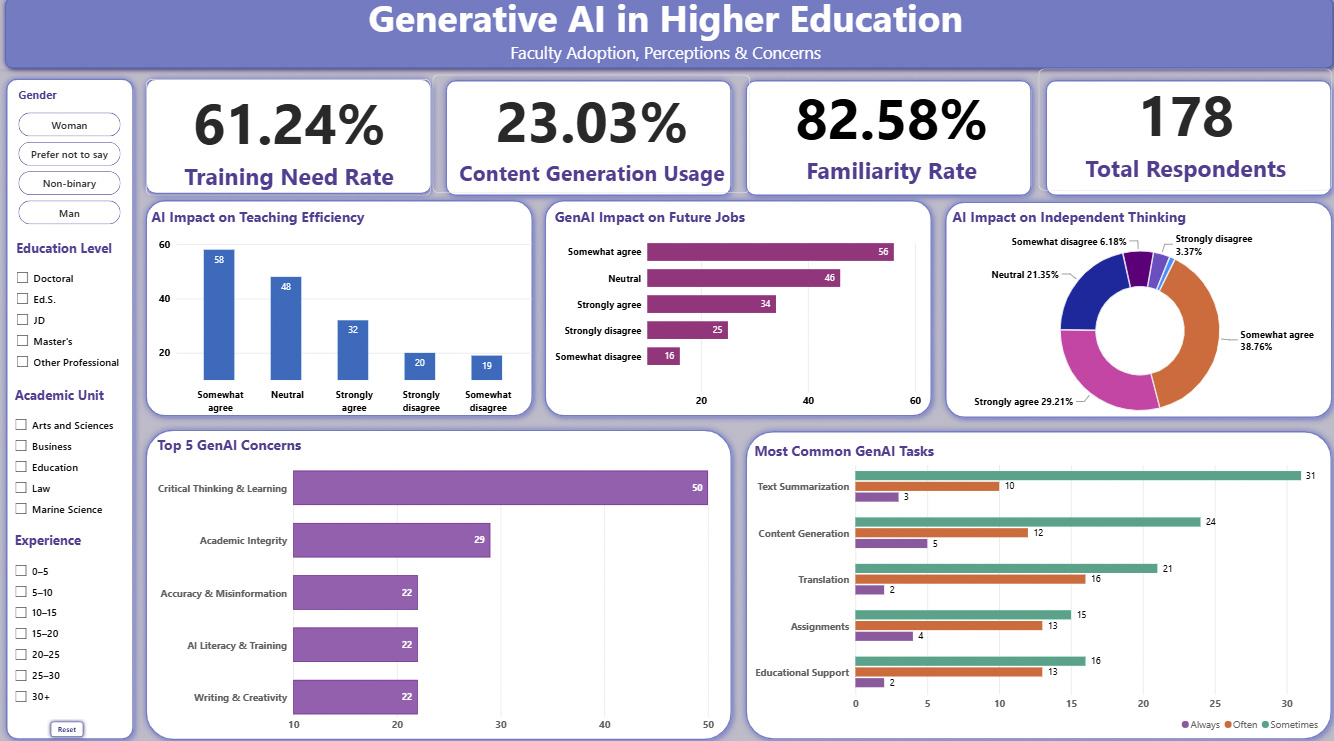

This screenshot's page, from the dashboard's own definition file:
{"tool":"powerbi","page":{"name":"Page 1","canvas":[1920,1080],"ordinal":0},"visuals":[{"type":"shape","box":[1490,115.7,430,186.1],"z":0},{"type":"shape","box":[0,0,1920,118],"z":1000},{"type":"shape","box":[0,114.3,202.9,967.1],"z":2000},{"type":"shape","box":[630,115.7,430,186.1],"z":3000},{"type":"shape","box":[200,114.3,430,185.7],"z":4000},{"type":"shape","box":[1060,115.7,430,186.1],"z":5000},{"type":"shape","box":[772.1,288.6,575,330],"z":6000},{"type":"shape","box":[200,288.6,575,330],"z":7000},{"type":"shape","box":[1344.3,290,575,330],"z":8000},{"type":"shape","box":[200,615.7,860,465],"z":9000},{"type":"shape","box":[1060,618.6,860,462],"z":10000},{"type":"cardVisual","fields":{"Data":["Measures_.Familiarity Rate"]},"box":[1062.5,117.5,430,167],"z":11000},{"type":"cardVisual","fields":{"Data":["Measures_.Total Respondents"]},"box":[1490,110,420,175],"z":12000},{"type":"cardVisual","fields":{"Data":["Measures_.Training Need Rate"]},"box":[211.4,124.3,408.6,167.1],"z":13000},{"type":"listSlicer","fields":{"Values":["Survay.education_level - short"]},"box":[8.6,339.5,202.5,227.2],"z":14000},{"type":"advancedSlicerVisual","fields":{"Values":["Survay.instructor_gender"]},"box":[27.2,135.8,146.9,197.5],"z":15000},{"type":"donutChart","title":"AI Impact on Independent Thinking","fields":{"Category":["Survay.genai_independent_thinking_reduction"],"Y":["Measures_.Total Respondents"]},"box":[1348.6,294.3,570,357.1],"z":16000},{"type":"listSlicer","fields":{"Values":["Survay.academic_unit"]},"box":[6.2,550.6,191.4,259.3],"z":17000},{"type":"clusteredBarChart","title":"GenAI Impact on Future Jobs","fields":{"Category":["Survay.genai_future_job_impact"],"Y":["Measures_.Total Respondents"]},"box":[780,294.3,557.1,321.4],"z":18000},{"type":"clusteredColumnChart","title":"AI Impact on Teaching Efficiency","fields":{"Category":["Survay.genai_instructor_efficiency"],"Y":["Measures_.Total Respondents"]},"box":[202.9,294.3,577.1,327.1],"z":19000},{"type":"clusteredBarChart","title":"Most Common GenAI Tasks","fields":{"Category":["GenAI_Tasks.Task"],"Series":["GenAI_Tasks.Frequency"],"Y":["CountNonNull(GenAI_Tasks.Respondent_ID)"]},"box":[1065,630,845,450],"z":20000},{"type":"clusteredBarChart","title":"Top 5 GenAI Concerns","fields":{"Category":["GenAI_Concerns.Concern Category"],"Y":["CountNonNull(GenAI_Concerns.Respondent_ID)"]},"box":[210.6,620.9,874.5,459.8],"z":21000},{"type":"textbox","box":[0,0,1910,110],"z":22000},{"type":"cardVisual","title":"Content Generation Usage","fields":{"Data":["Measures_.Content Generation Usage Rate"]},"box":[620,117.5,455,170],"z":23000},{"type":"listSlicer","fields":{"Values":["Survay.Teaching Experience Group"]},"box":[6.2,759.3,185.2,300],"z":24000},{"type":"actionButton","box":[69.7,1039.9,57.3,32.3],"z":25000}]}

Visuals, with their boxes in screenshot pixels (x1, y1, x2, y2), scaled from the page's 1920x1080 canvas onto the 1334x741 screenshot:
shape: x1=1035, y1=79, x2=1333, y2=207
shape: x1=0, y1=0, x2=1333, y2=81
shape: x1=0, y1=78, x2=141, y2=740
shape: x1=438, y1=79, x2=736, y2=207
shape: x1=139, y1=78, x2=438, y2=206
shape: x1=736, y1=79, x2=1035, y2=207
shape: x1=536, y1=198, x2=936, y2=424
shape: x1=139, y1=198, x2=538, y2=424
shape: x1=934, y1=199, x2=1333, y2=425
shape: x1=139, y1=422, x2=736, y2=740
shape: x1=736, y1=424, x2=1333, y2=740
cardVisual - Measures_.Familiarity Rate: x1=738, y1=81, x2=1037, y2=195
cardVisual - Measures_.Total Respondents: x1=1035, y1=75, x2=1327, y2=196
cardVisual - Measures_.Training Need Rate: x1=147, y1=85, x2=431, y2=200
listSlicer - Survay.education_level - short: x1=6, y1=233, x2=147, y2=389
advancedSlicerVisual - Survay.instructor_gender: x1=19, y1=93, x2=121, y2=229
"AI Impact on Independent Thinking" donutChart: x1=937, y1=202, x2=1333, y2=447
listSlicer - Survay.academic_unit: x1=4, y1=378, x2=137, y2=556
"GenAI Impact on Future Jobs" clusteredBarChart: x1=542, y1=202, x2=929, y2=422
"AI Impact on Teaching Efficiency" clusteredColumnChart: x1=141, y1=202, x2=542, y2=426
"Most Common GenAI Tasks" clusteredBarChart: x1=740, y1=432, x2=1327, y2=740
"Top 5 GenAI Concerns" clusteredBarChart: x1=146, y1=426, x2=754, y2=740
textbox: x1=0, y1=0, x2=1327, y2=75
"Content Generation Usage" cardVisual: x1=431, y1=81, x2=747, y2=197
listSlicer - Survay.Teaching Experience Group: x1=4, y1=521, x2=133, y2=727
actionButton: x1=48, y1=713, x2=88, y2=736
